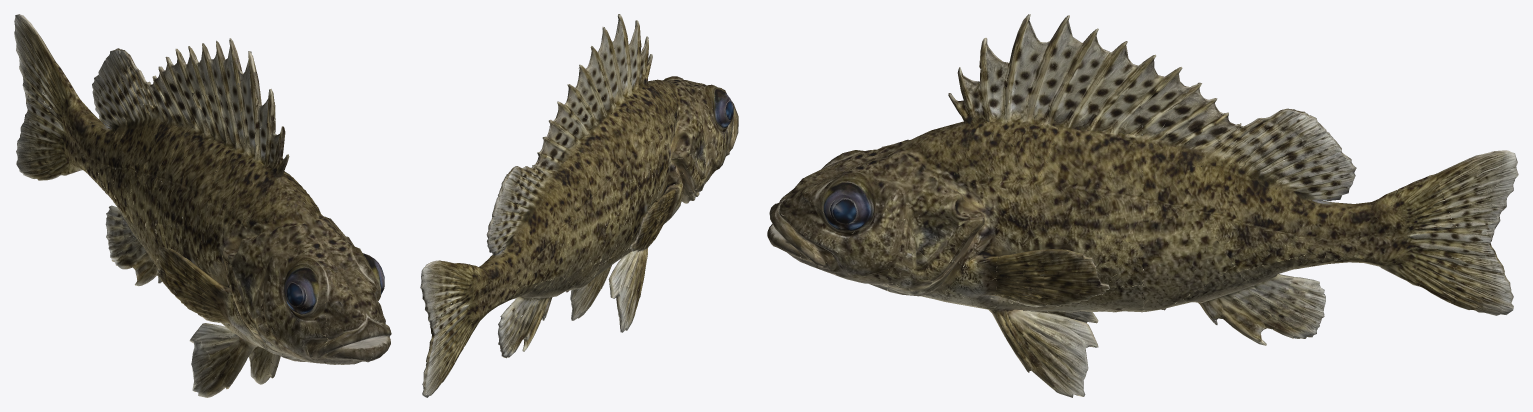
File: jazgarz.glb
3 views of the same model, side by side, from view 1: azimuth 30°, elevation 25°; view 2: azimuth 150°, elevation 25°; view 3: azimuth 270°, elevation 25° (orthographic). The views are drawn at different scales.
Visible parts, largest first — view 1: Mesh_0; view 2: Mesh_0; view 3: Mesh_0.
Boxes of the visible parts, box(x1,y1,x2,y2) form: Mesh_0: box(14, 14, 391, 397); Mesh_0: box(420, 14, 738, 397); Mesh_0: box(767, 14, 1518, 397).
Size of the model in its own units: 0.3804 by 1.03 by 1.9.
Materials: 1 (1 with a texture image).
